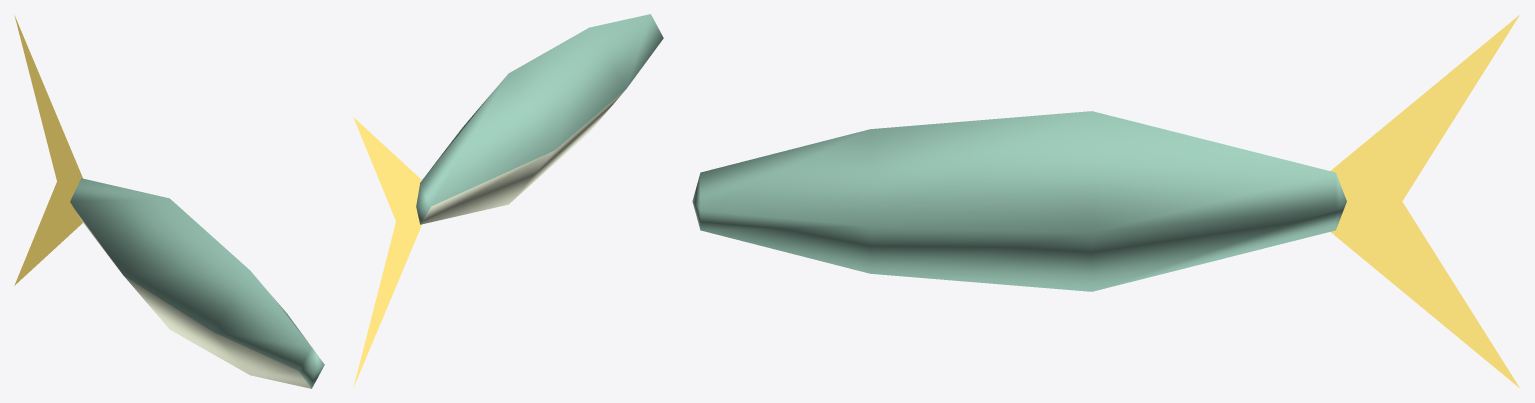
File: fish_c_far.glb
The picture shows the model from 3 angles, left to right: view 1: azimuth 30°, elevation 25°; view 2: azimuth 150°, elevation 25°; view 3: azimuth 270°, elevation 25°; orthographic projection. The views are drawn at different scales.
Visible parts, largest first — view 1: fish_c_far; view 2: fish_c_far; view 3: fish_c_far.
Boxes of the visible parts, <box> form: fish_c_far: <box>14,15,324,388</box>; fish_c_far: <box>353,14,663,387</box>; fish_c_far: <box>692,15,1519,387</box>.
Size of the model in its own units: 0.088 by 0.2464 by 0.4932.
